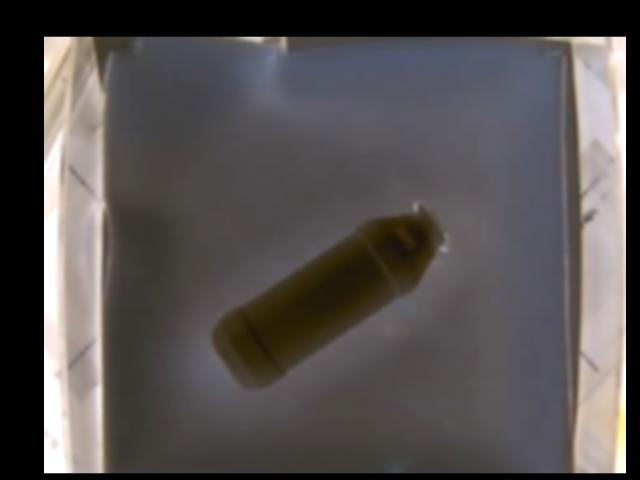Bottle: (212, 199, 450, 390)
